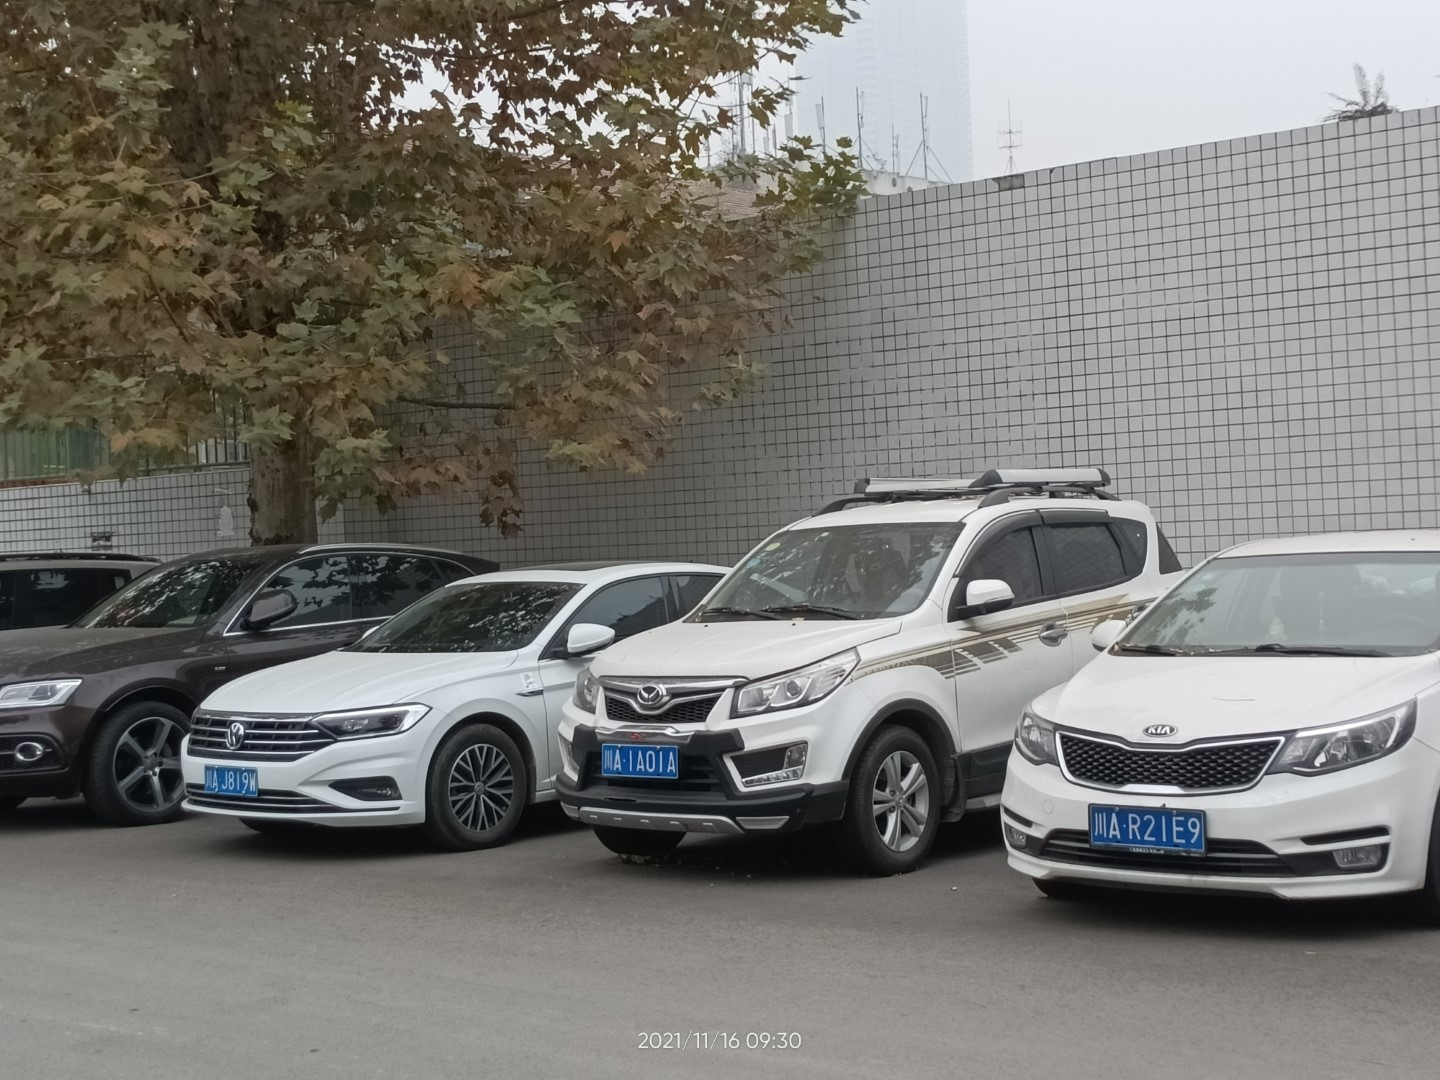plate: (1090, 804, 1205, 854), (602, 742, 677, 779), (203, 763, 257, 794)
